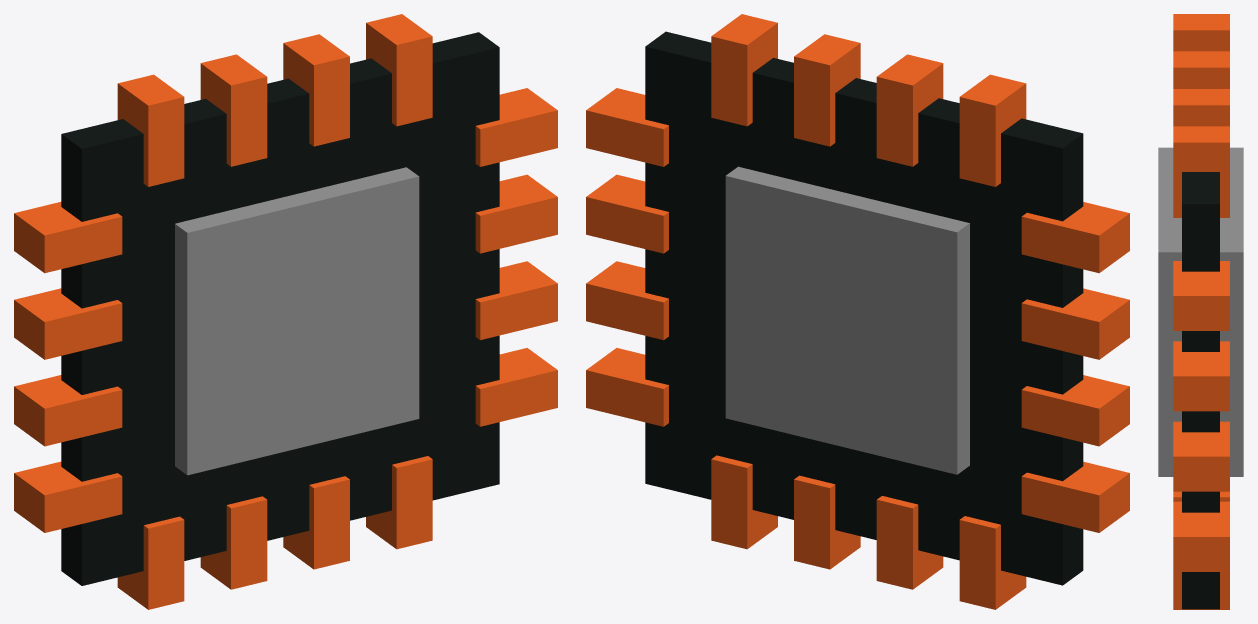
Rendered from Chip.FBX.
The picture shows the model from 3 angles, left to right: view 1: azimuth 30°, elevation 25°; view 2: azimuth 150°, elevation 25°; view 3: azimuth 270°, elevation 25°; orthographic projection. The views are drawn at different scales.
Parts seen in each view (by area): view 1: Chipardo; view 2: Chipardo; view 3: Chipardo.
Part boxes in pixels (bbox=[...]): Chipardo: bbox=[14, 14, 557, 609]; Chipardo: bbox=[586, 14, 1129, 609]; Chipardo: bbox=[1158, 14, 1243, 609].
Size of the model in its own units: 23.12 by 3.58 by 21.7.
